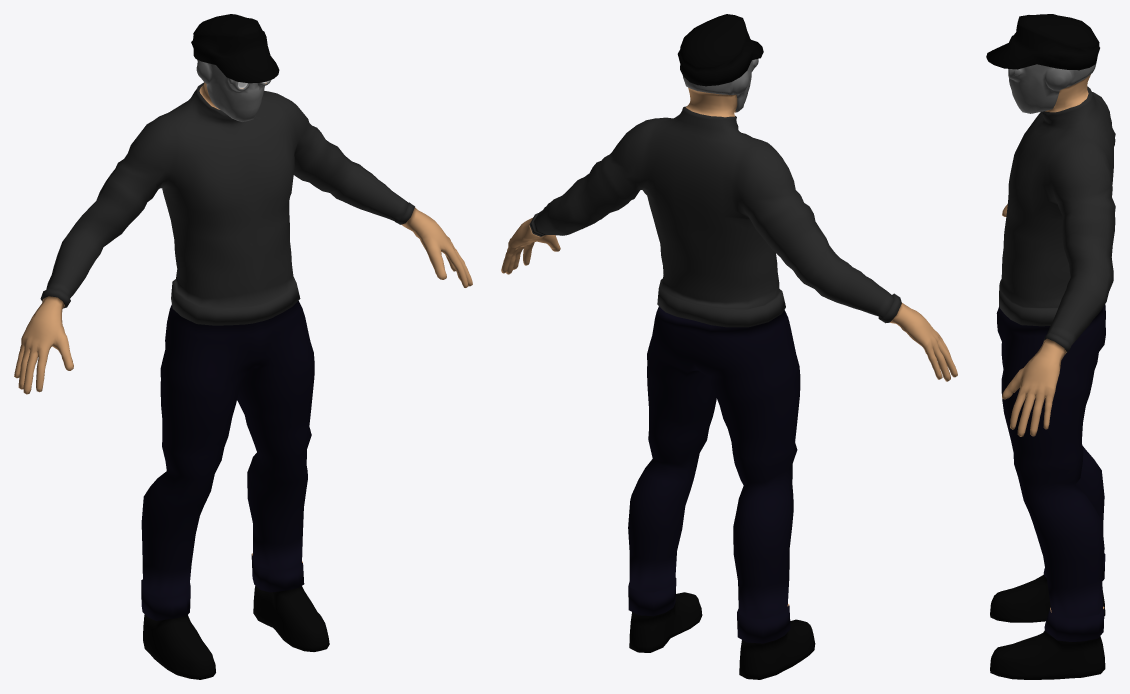
The model's file is petty thief1.fbx.
3 views of the same model, side by side, from view 1: azimuth 30°, elevation 25°; view 2: azimuth 150°, elevation 25°; view 3: azimuth 270°, elevation 25° (orthographic).
Parts seen in each view (by area): view 1: hAKEN; view 2: hAKEN; view 3: hAKEN.
Boxes of the visible parts, <box> form: hAKEN: <box>14,14,472,679</box>; hAKEN: <box>501,14,957,679</box>; hAKEN: <box>986,14,1115,679</box>.
Bounding box in the file's own units: 480 × 637 × 120.
